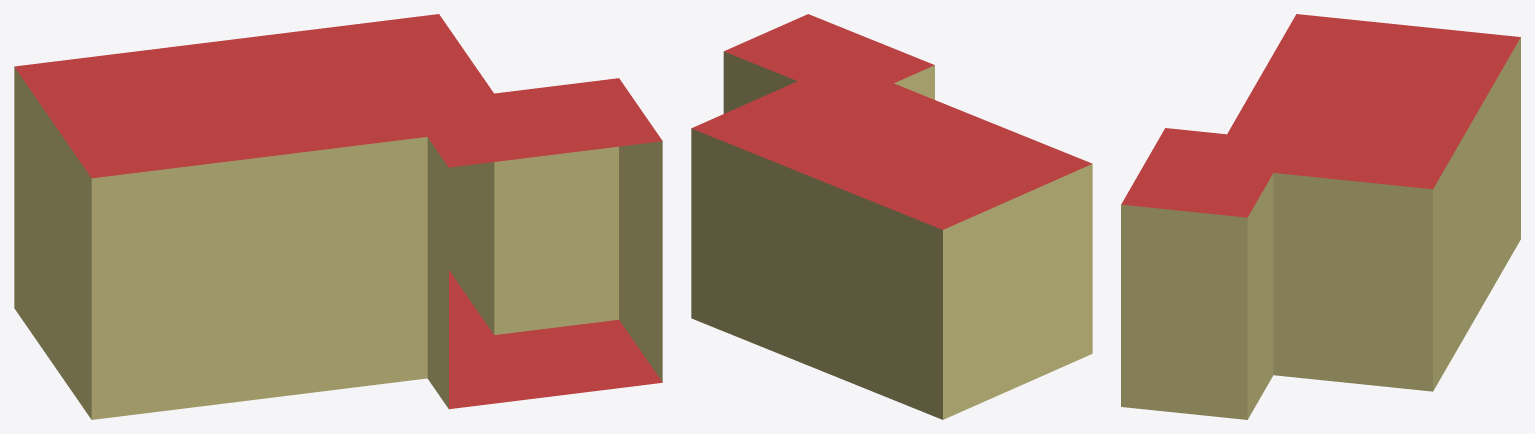
3 renders of one model, left to right at view 1: azimuth 30°, elevation 25°; view 2: azimuth 150°, elevation 25°; view 3: azimuth 270°, elevation 25°, orthographic. The views are drawn at different scales.
Size of the model in its own units: 12.33 by 10.23 by 5.71.
